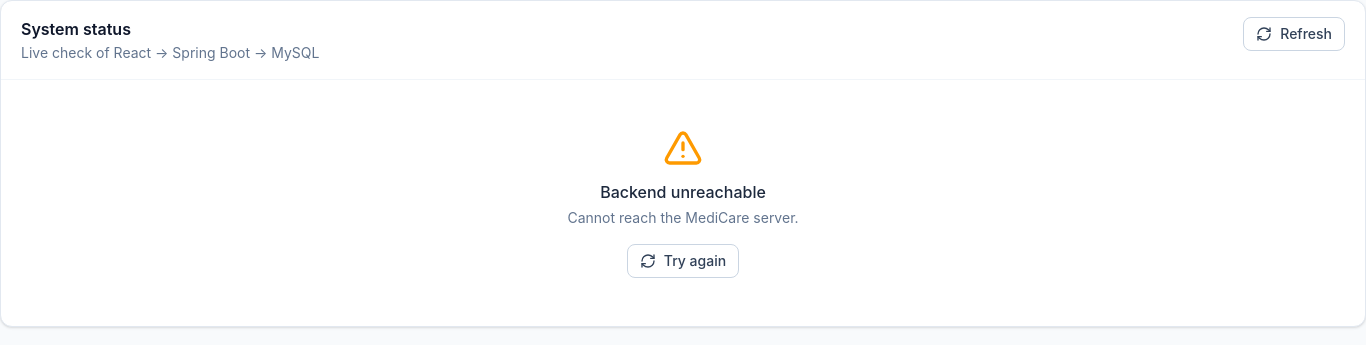
SystemStatusCard › shows a network error and recovers after retry
Expected: the text "Backend unreachable" is shown, left=600, top=180, right=766, bottom=204
Click the button "Try again".
click(683, 261)  # box left=627, top=244, right=739, bottom=278
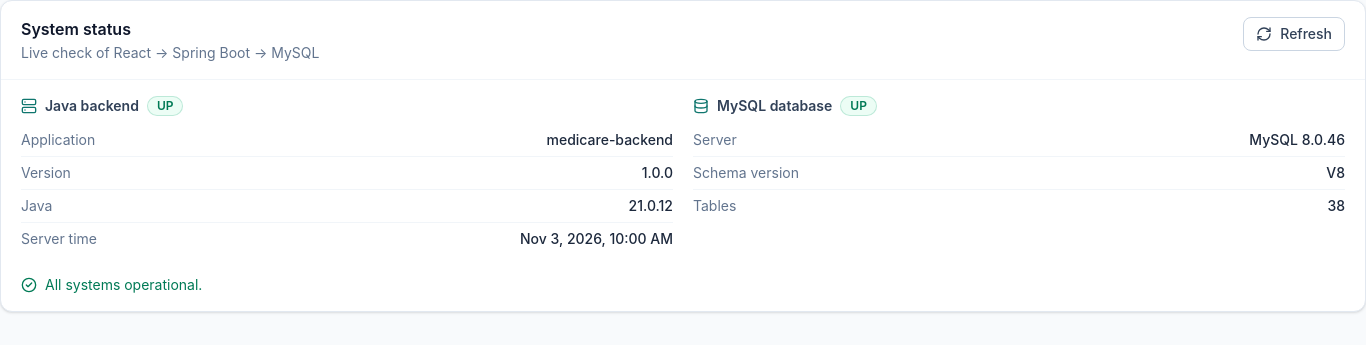
Now the text "All systems operational." is shown, box left=21, top=276, right=202, bottom=293
